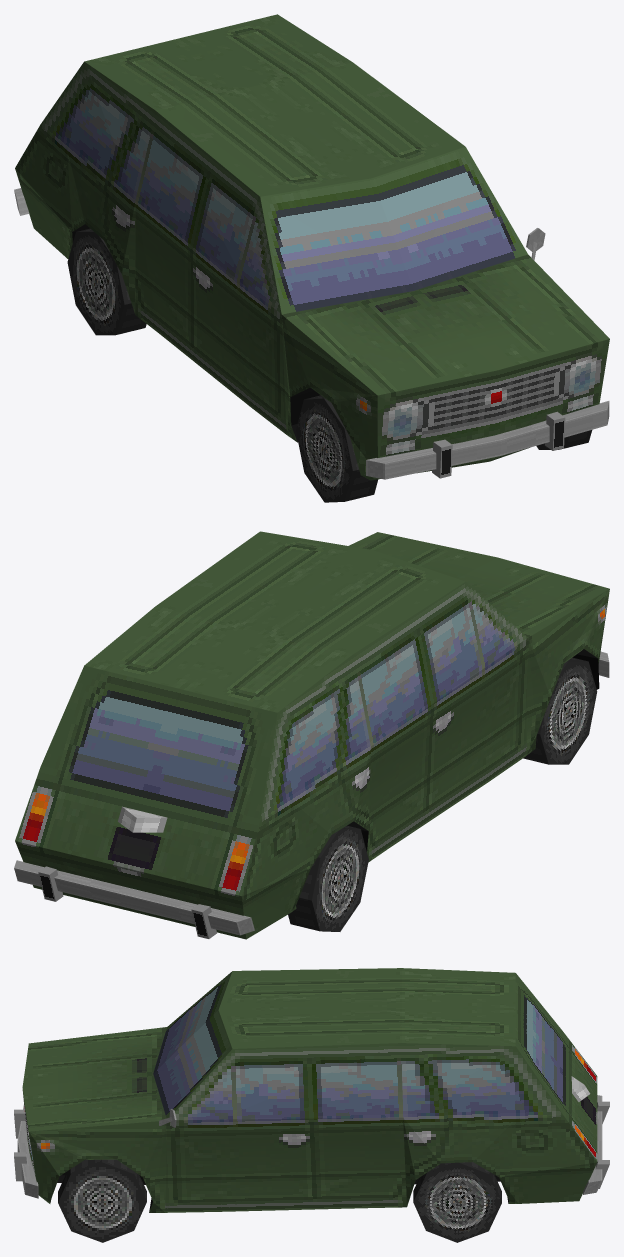
The model's file is SUV.glb.
The picture shows the model from 3 angles, top to bottom: view 1: azimuth 30°, elevation 25°; view 2: azimuth 150°, elevation 25°; view 3: azimuth 270°, elevation 25°; orthographic projection. The views are drawn at different scales.
Parts seen in each view (by area): view 1: Car; view 2: Car; view 3: Car.
Part boxes in pixels (x1,y1,x2,y2): Car: (14,14,609,502); Car: (14,531,609,939); Car: (14,968,609,1242).
Size of the model in its own units: 2.56 by 2.17 by 6.15.
1 material, 1 textured.
